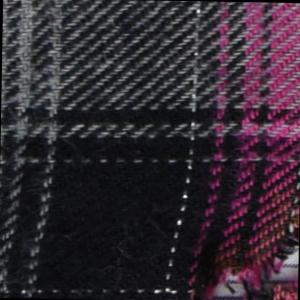Damage: (195, 183, 300, 300)
